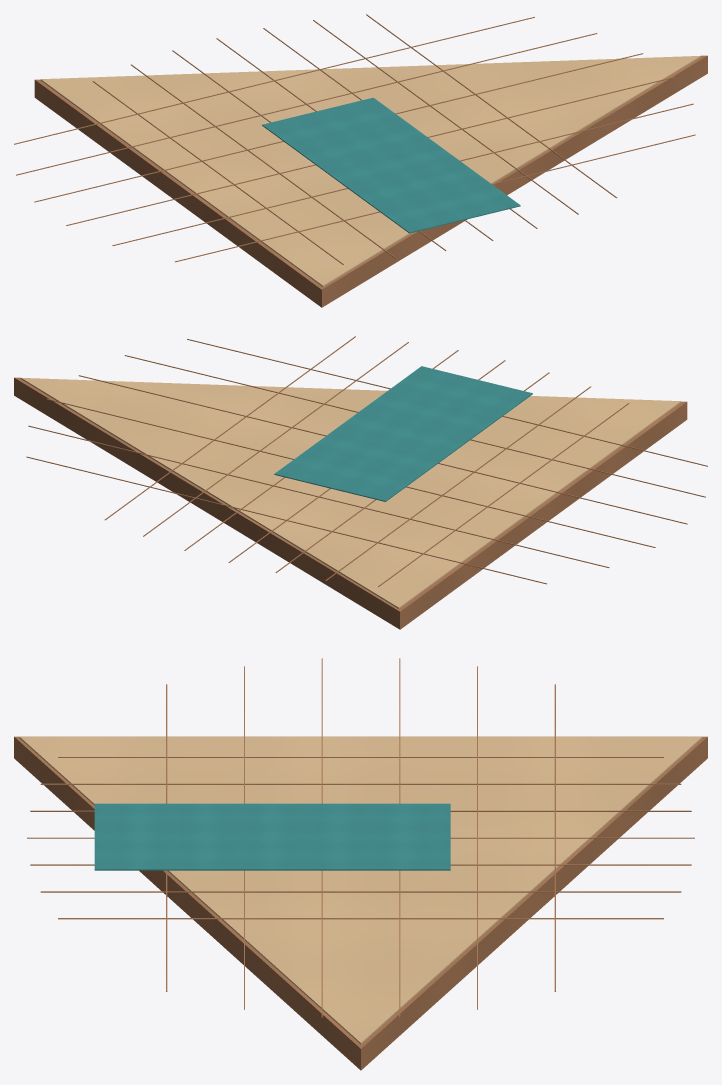
The model's file is atlas100-s092-a07.lod2.glb.
3 renders of one model, top to bottom at view 1: azimuth 30°, elevation 25°; view 2: azimuth 150°, elevation 25°; view 3: azimuth 270°, elevation 25°, orthographic. The views are drawn at different scales.
Visible parts, largest first — view 1: atlas100-s092-a07:part-001, atlas100-s092-a07:part-021, atlas100-s092-a07:part-000, atlas100-s092-a07:part-015, atlas100-s092-a07:part-014, atlas100-s092-a07:part-016, atlas100-s092-a07:part-017, atlas100-s092-a07:part-018, atlas100-s092-a07:part-019, atlas100-s092-a07:part-005, atlas100-s092-a07:part-009, atlas100-s092-a07:part-010 (+1 smaller); view 2: atlas100-s092-a07:part-001, atlas100-s092-a07:part-021, atlas100-s092-a07:part-000, atlas100-s092-a07:part-015, atlas100-s092-a07:part-014, atlas100-s092-a07:part-017, atlas100-s092-a07:part-016, atlas100-s092-a07:part-018, atlas100-s092-a07:part-019, atlas100-s092-a07:part-005, atlas100-s092-a07:part-009, atlas100-s092-a07:part-010 (+1 smaller); view 3: atlas100-s092-a07:part-001, atlas100-s092-a07:part-021, atlas100-s092-a07:part-000, atlas100-s092-a07:part-005, atlas100-s092-a07:part-009, atlas100-s092-a07:part-010.
Boxes of the visible parts, left/top/right/bottom form: atlas100-s092-a07:part-001: left=40, top=56, right=700, bottom=286; atlas100-s092-a07:part-021: left=262, top=97, right=520, bottom=233; atlas100-s092-a07:part-000: left=34, top=55, right=707, bottom=307; atlas100-s092-a07:part-015: left=16, top=33, right=597, bottom=175; atlas100-s092-a07:part-014: left=14, top=17, right=534, bottom=144; atlas100-s092-a07:part-016: left=34, top=53, right=643, bottom=202; atlas100-s092-a07:part-017: left=66, top=76, right=675, bottom=225; atlas100-s092-a07:part-018: left=112, top=103, right=693, bottom=245; atlas100-s092-a07:part-019: left=174, top=134, right=695, bottom=262; atlas100-s092-a07:part-005: left=131, top=64, right=396, bottom=258; atlas100-s092-a07:part-009: left=313, top=20, right=578, bottom=214; atlas100-s092-a07:part-010: left=366, top=14, right=617, bottom=198; atlas100-s092-a07:part-001: left=21, top=378, right=681, bottom=608; atlas100-s092-a07:part-021: left=274, top=366, right=532, bottom=501; atlas100-s092-a07:part-000: left=14, top=377, right=687, bottom=629; atlas100-s092-a07:part-015: left=28, top=425, right=609, bottom=567; atlas100-s092-a07:part-014: left=26, top=456, right=547, bottom=584; atlas100-s092-a07:part-017: left=78, top=375, right=687, bottom=524; atlas100-s092-a07:part-016: left=46, top=398, right=655, bottom=547; atlas100-s092-a07:part-018: left=124, top=355, right=705, bottom=497; atlas100-s092-a07:part-019: left=187, top=339, right=707, bottom=466; atlas100-s092-a07:part-005: left=325, top=386, right=590, bottom=580; atlas100-s092-a07:part-009: left=143, top=342, right=408, bottom=536; atlas100-s092-a07:part-010: left=104, top=336, right=355, bottom=520; atlas100-s092-a07:part-001: left=19, top=737, right=702, bottom=1044; atlas100-s092-a07:part-021: left=94, top=803, right=450, bottom=870; atlas100-s092-a07:part-000: left=14, top=736, right=707, bottom=1070; atlas100-s092-a07:part-005: left=40, top=783, right=681, bottom=784; atlas100-s092-a07:part-009: left=40, top=891, right=681, bottom=892; atlas100-s092-a07:part-010: left=58, top=918, right=663, bottom=919.
Size of the model in its own units: 12.99 by 0.404 by 9.82.
Materials: 3 (3 with a texture image).
